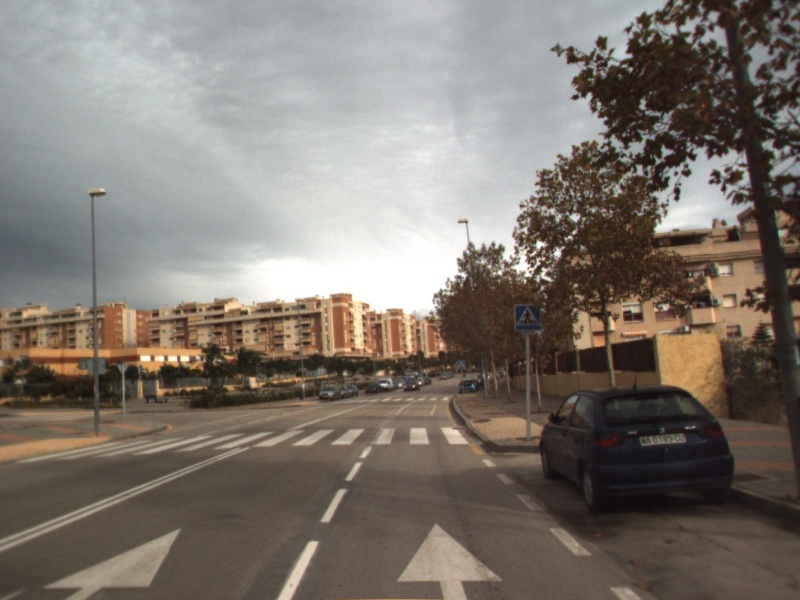STRAIGHT: (39, 524, 184, 600), (392, 520, 505, 600)
